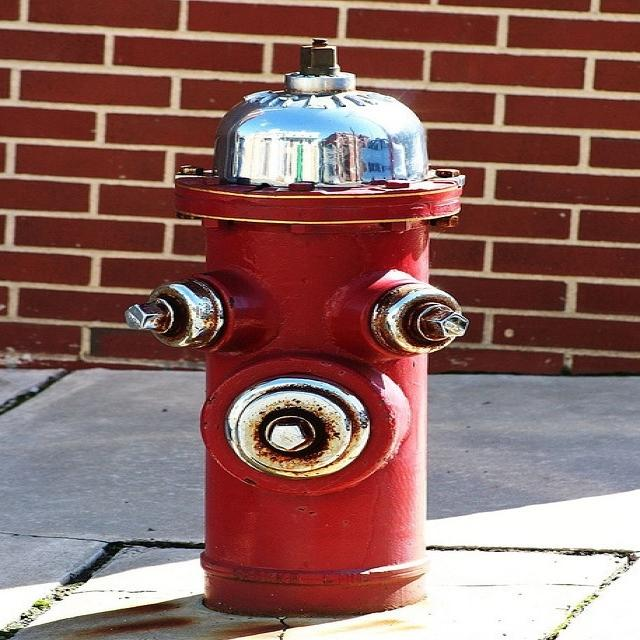fire_hydrant: (148, 43, 508, 616)
